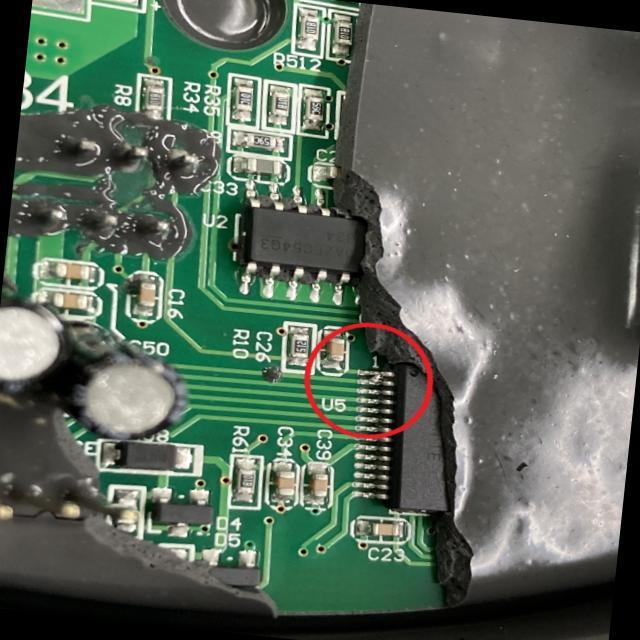Short_circuit: (358, 371, 395, 389)
